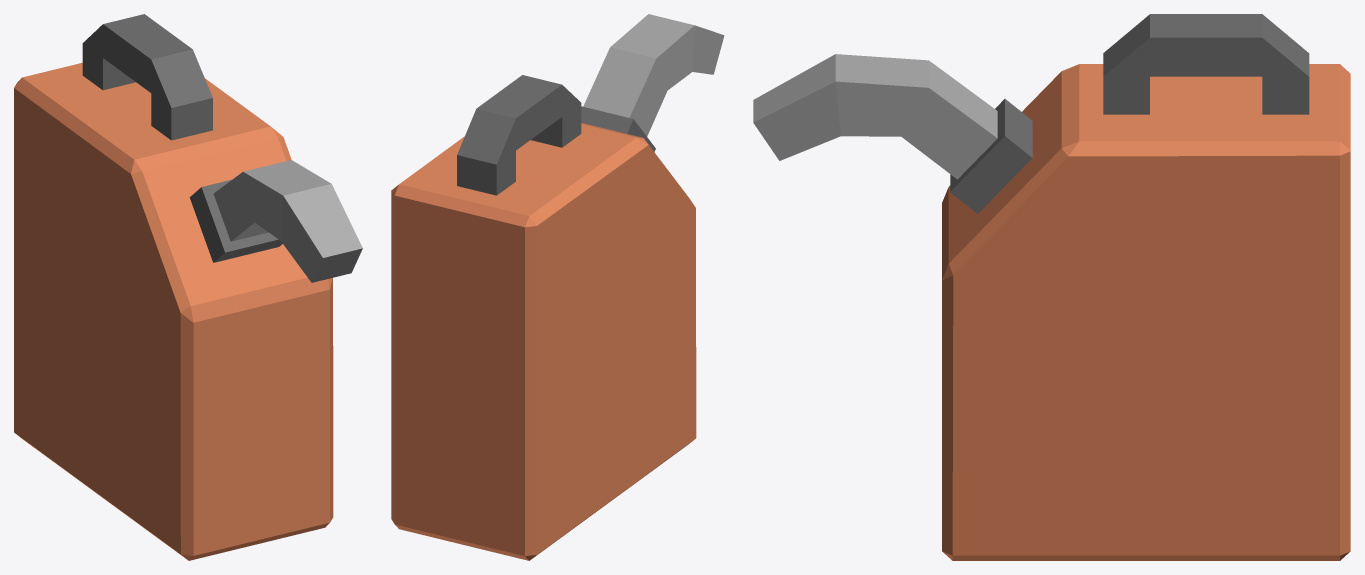
Rendered from Gasolina.fbx.
3 renders of one model, left to right at view 1: azimuth 30°, elevation 25°; view 2: azimuth 150°, elevation 25°; view 3: azimuth 270°, elevation 25°, orthographic. The views are drawn at different scales.
Visible parts, largest first — view 1: gasolina:pCube3; view 2: gasolina:pCube3; view 3: gasolina:pCube3.
Boxes of the visible parts, x1,y1,x2,y2 form: gasolina:pCube3: (14, 14, 362, 560); gasolina:pCube3: (391, 14, 724, 560); gasolina:pCube3: (753, 14, 1350, 560).
Bounding box in the file's own units: 0.6641 × 1.78 × 1.94.
